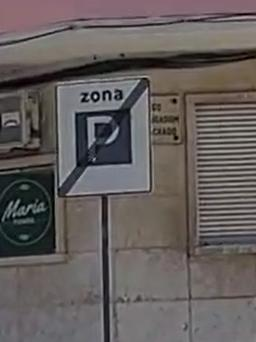fim de zona de estacionamento autorizado: (46, 72, 159, 201)
